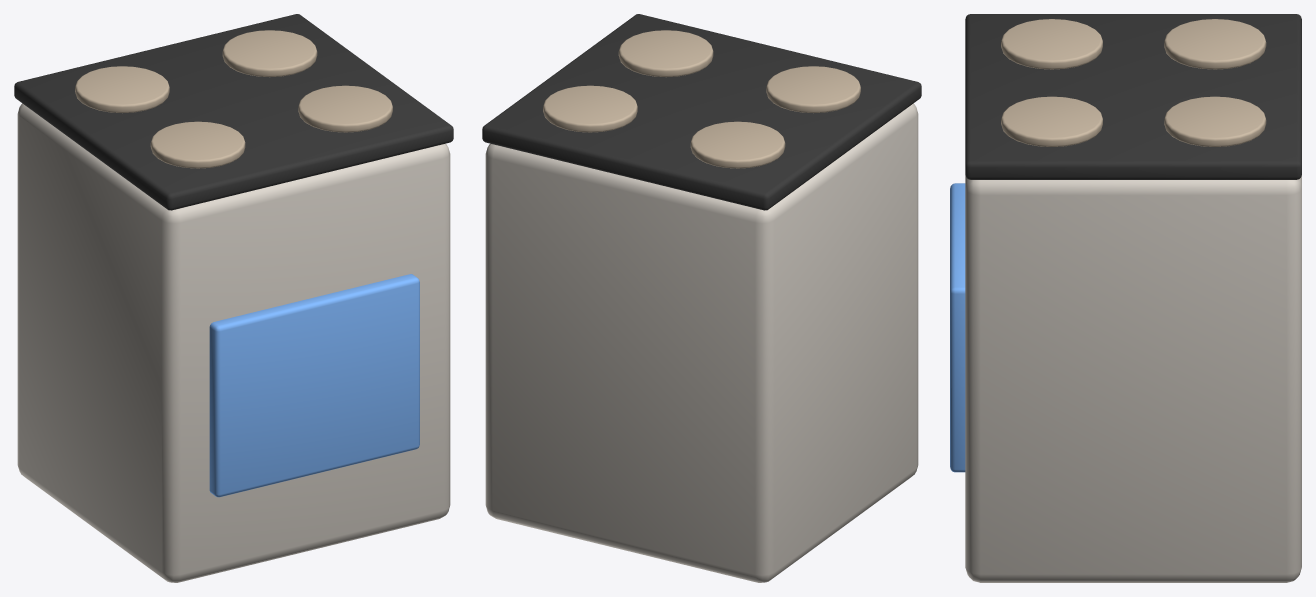
The model's file is stove.glb.
3 renders of one model, left to right at view 1: azimuth 30°, elevation 25°; view 2: azimuth 150°, elevation 25°; view 3: azimuth 270°, elevation 25°, orthographic. The views are drawn at different scales.
Parts seen in each view (by area): view 1: stove; view 2: stove; view 3: stove.
Boxes of the visible parts, x1,y1,x2,y2 form: stove: (14,14,453,582); stove: (482,14,921,582); stove: (950,14,1301,582).
Size of the model in its own units: 0.7 by 0.94 by 0.69.
